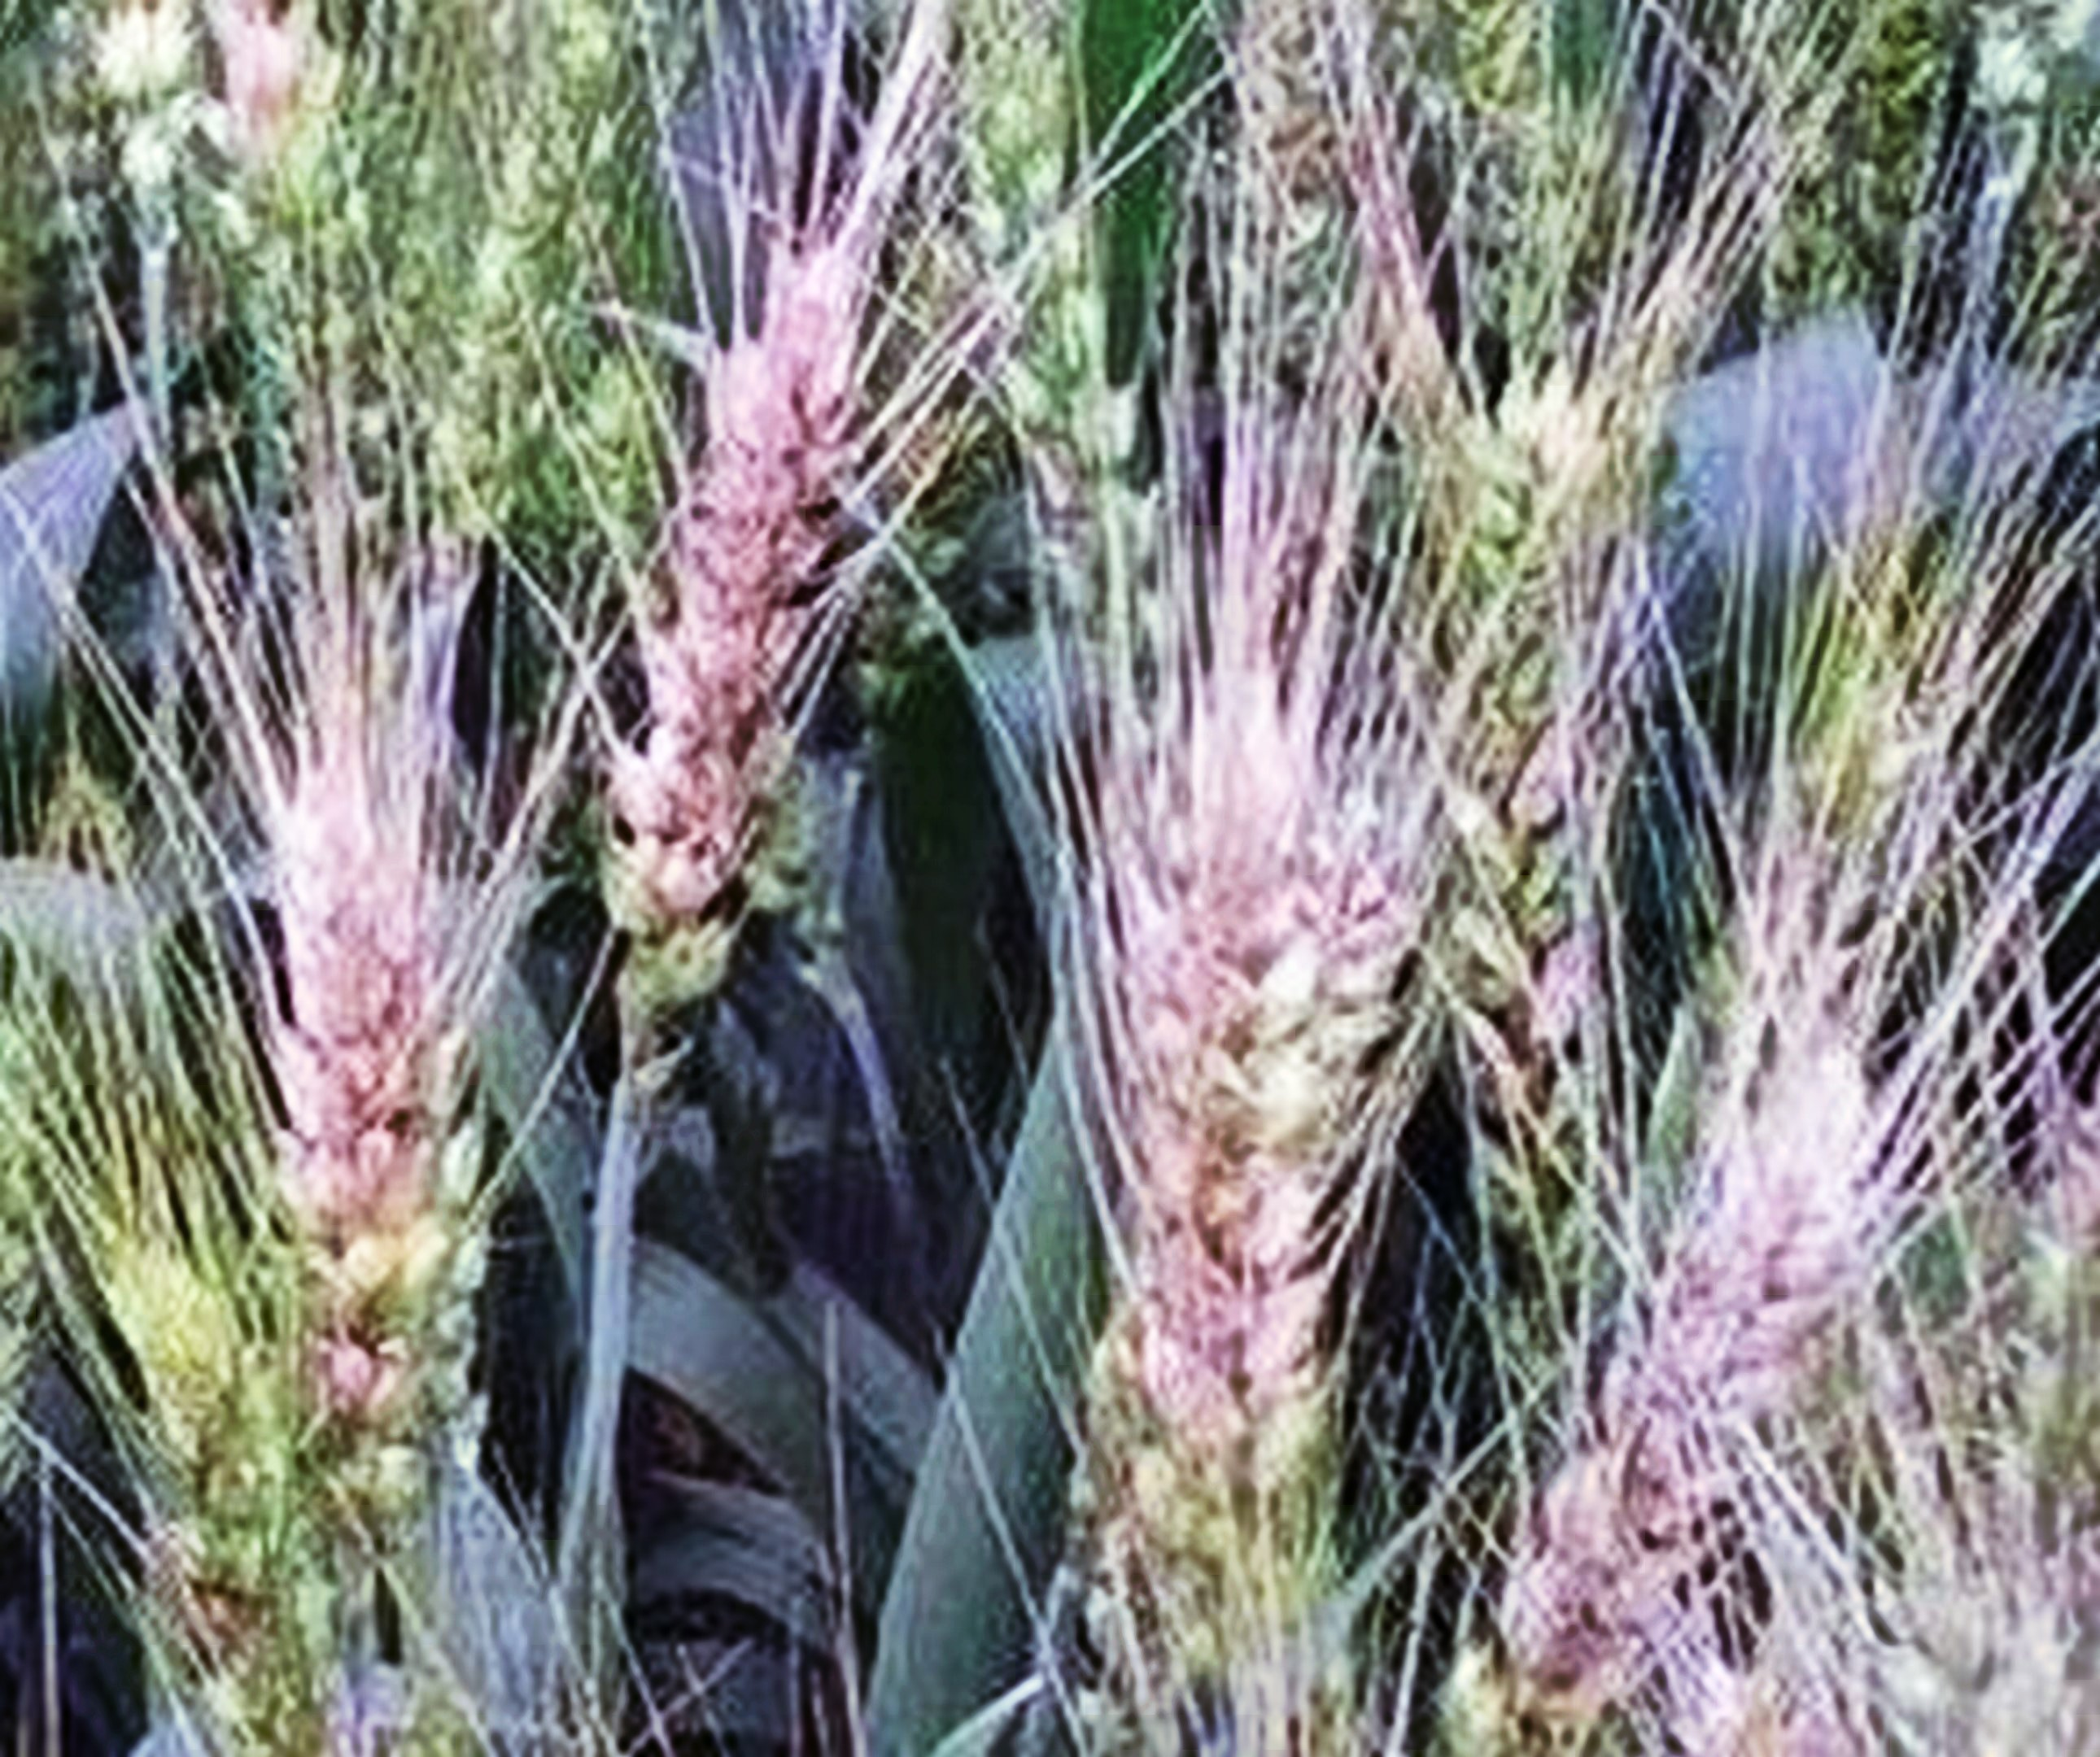Wheat scab: (603, 225, 949, 1056)
